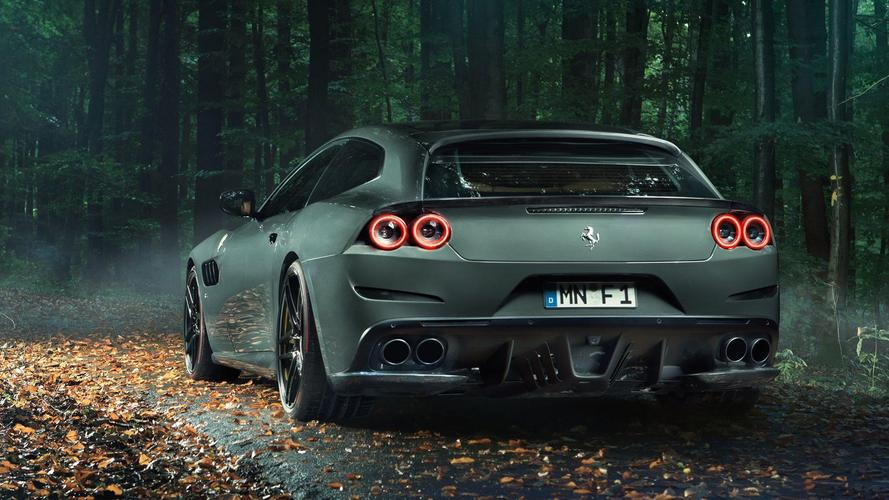汽车: (157, 115, 796, 419)
